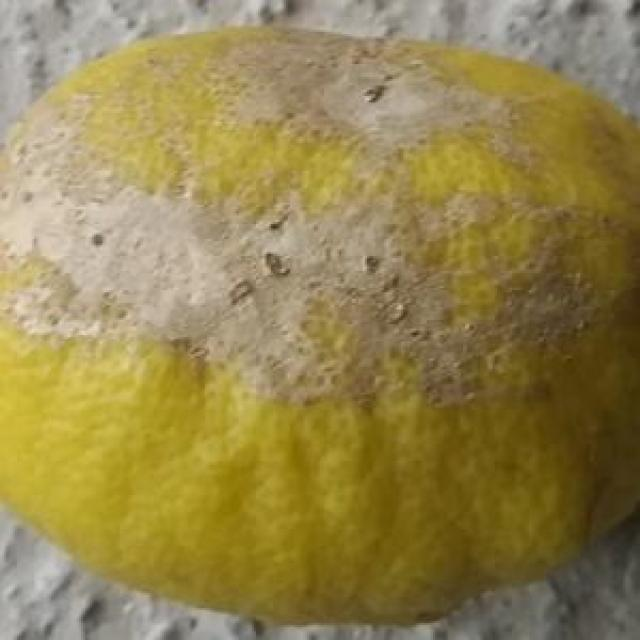lemon: (5, 27, 635, 624)
